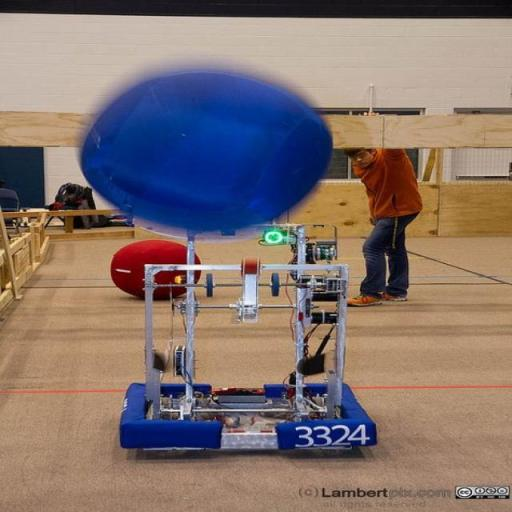robot: (111, 208, 392, 462)
